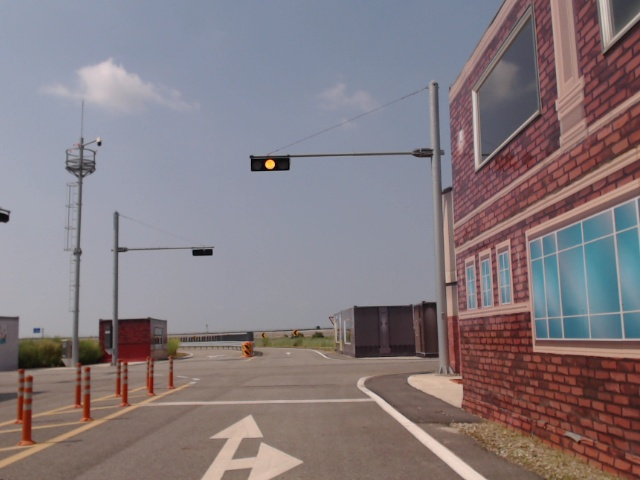orange_3: (251, 155, 289, 171)
